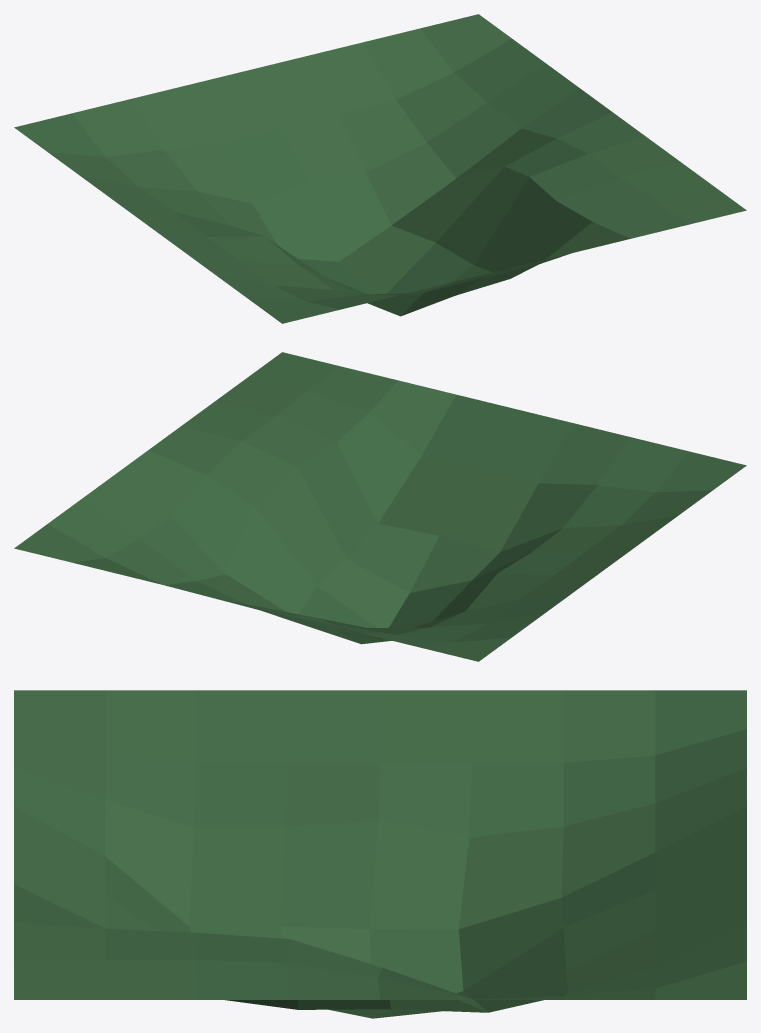
File: Terrain_14_Light_Green.fbx
3 renders of one model, top to bottom at view 1: azimuth 30°, elevation 25°; view 2: azimuth 150°, elevation 25°; view 3: azimuth 270°, elevation 25°, orthographic. The views are drawn at different scales.
Visible parts, largest first — view 1: Terrain_14_Light_Green; view 2: Terrain_14_Light_Green; view 3: Terrain_14_Light_Green.
Part boxes in pixels (<box>): Terrain_14_Light_Green: <box>14,14,746,323</box>; Terrain_14_Light_Green: <box>14,352,746,661</box>; Terrain_14_Light_Green: <box>14,690,746,1018</box>.
Size of the model in its own units: 6000 by 1582 by 6000.
